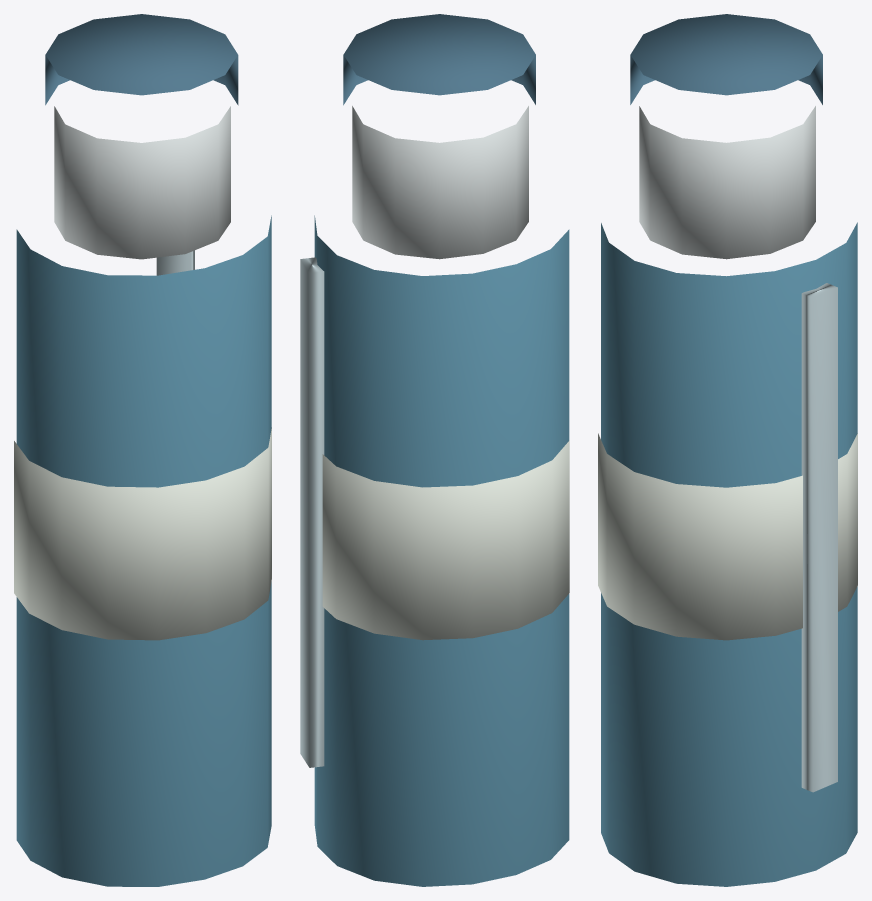
The model's file is water_bottle.glb.
3 renders of one model, left to right at view 1: azimuth 30°, elevation 25°; view 2: azimuth 150°, elevation 25°; view 3: azimuth 270°, elevation 25°, orthographic.
Visible parts, largest first — view 1: water_bottle; view 2: water_bottle; view 3: water_bottle.
Part boxes in pixels (x1,y1,x2,y2): water_bottle: (14, 14, 271, 886); water_bottle: (300, 14, 569, 886); water_bottle: (598, 14, 857, 886).
Size of the model in its own units: 0.162 by 0.535 by 0.162.
